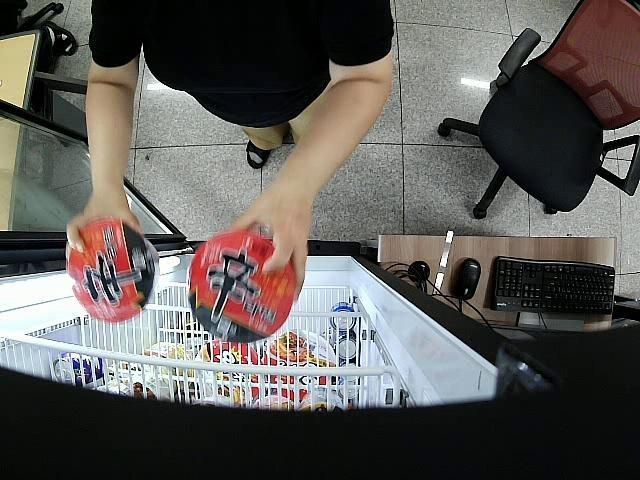01_ShinRamen_L: (186, 231, 298, 346), (66, 218, 160, 324)
